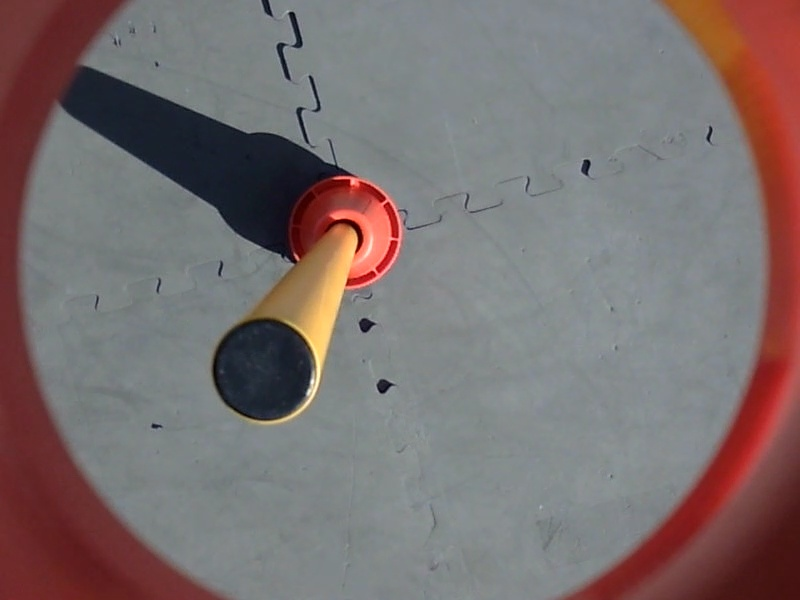tip: (204, 311, 328, 429)
